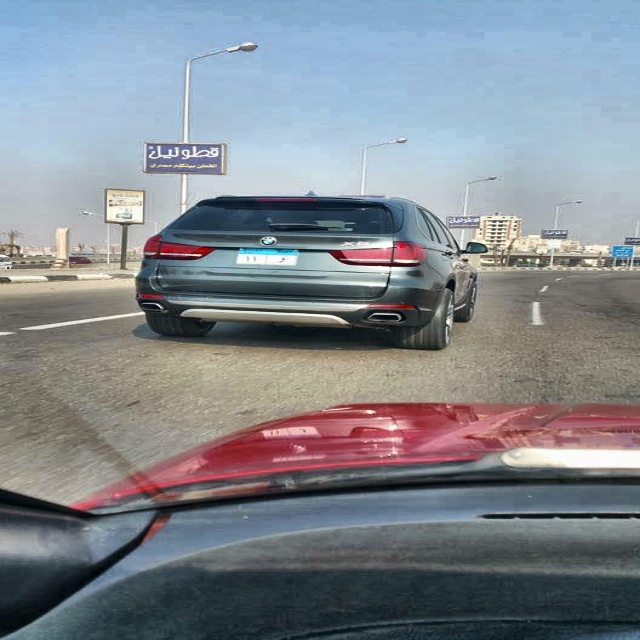License Plate: (234, 247, 301, 267)
